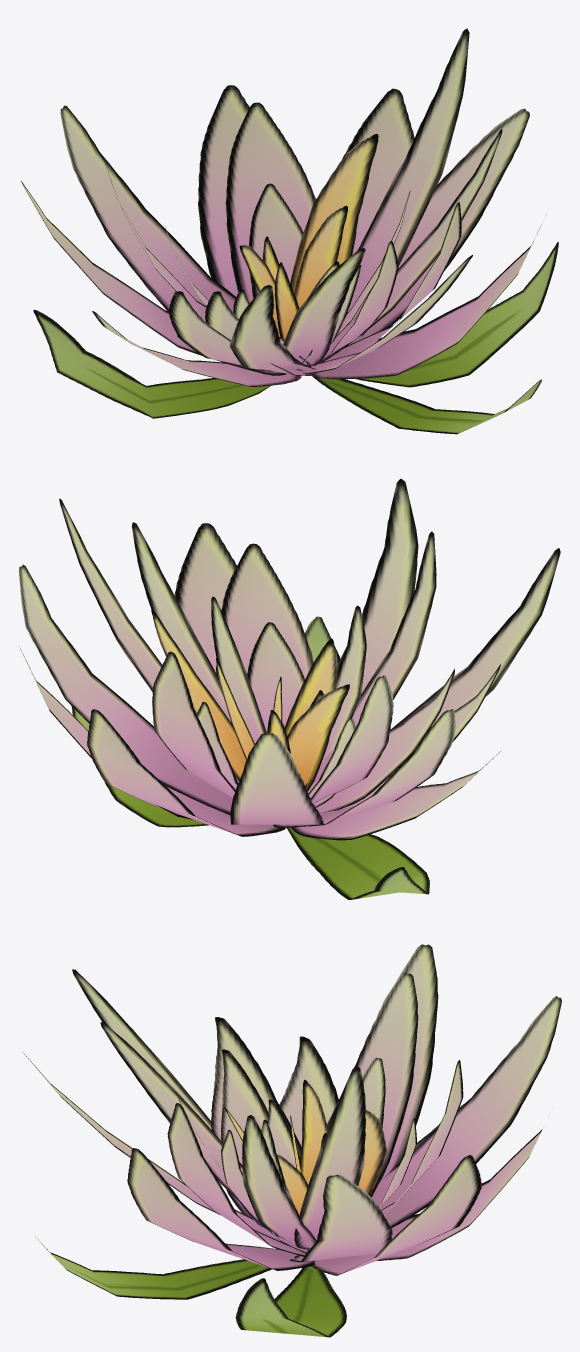
The model's file is Moonset_FBX_lotus_02.fbx.
3 renders of one model, top to bottom at view 1: azimuth 30°, elevation 25°; view 2: azimuth 150°, elevation 25°; view 3: azimuth 270°, elevation 25°, orthographic. The views are drawn at different scales.
Visible parts, largest first — view 1: Lotus_2; view 2: Lotus_2; view 3: Lotus_2.
Boxes of the visible parts, left/top/right/bottom form: Lotus_2: left=21, top=28, right=558, bottom=434; Lotus_2: left=18, top=478, right=560, bottom=899; Lotus_2: left=23, top=944, right=561, bottom=1337.
Size of the model in its own units: 1.28 by 0.8106 by 1.3.
